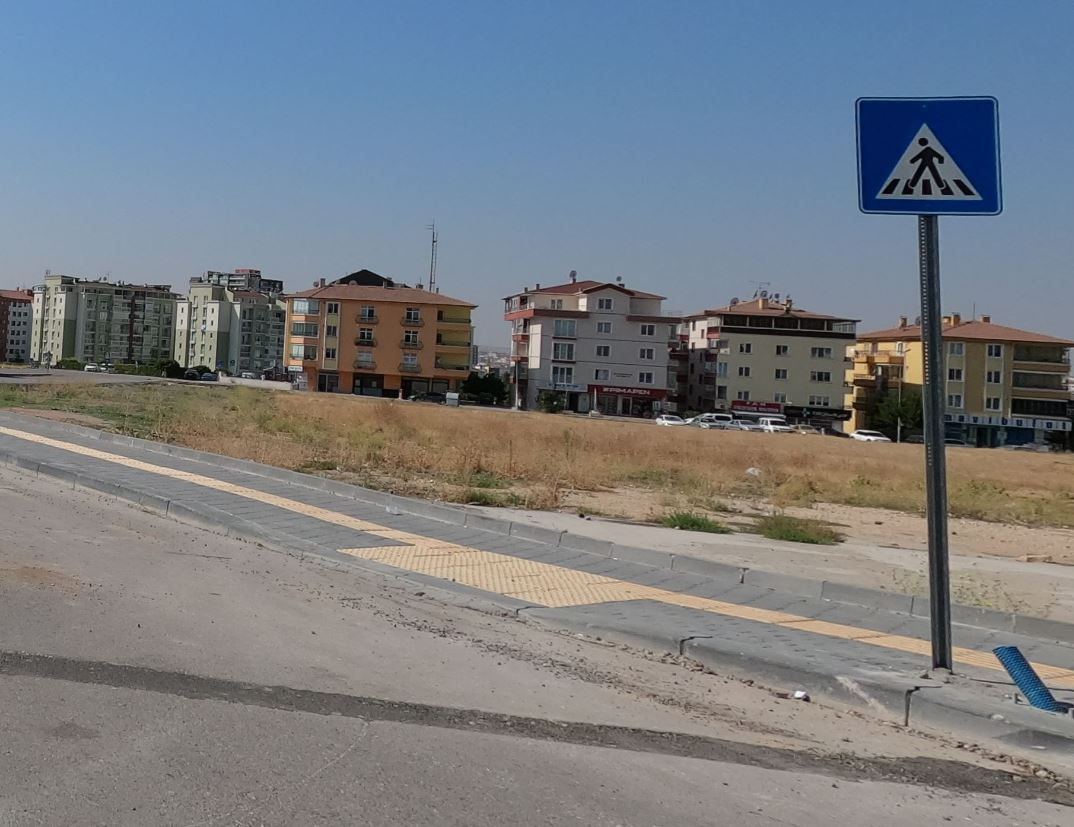Yaya Gecidi: (851, 96, 1000, 209)
